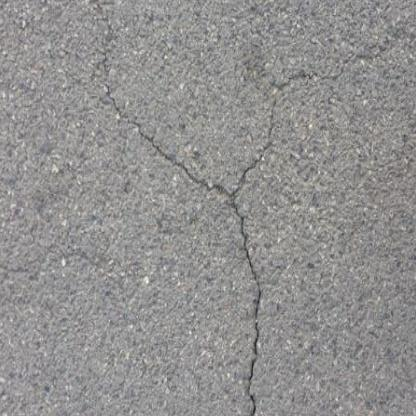Cracks: (89, 0, 397, 416), (0, 241, 134, 311)
